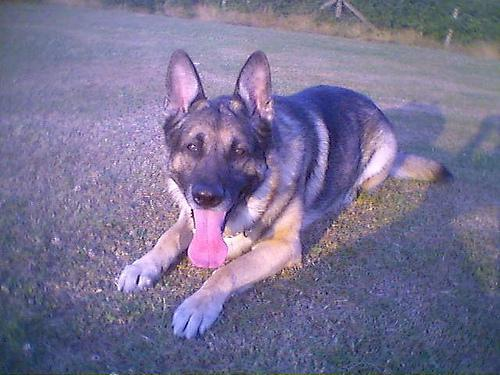German_shepherd: (117, 48, 452, 340)
